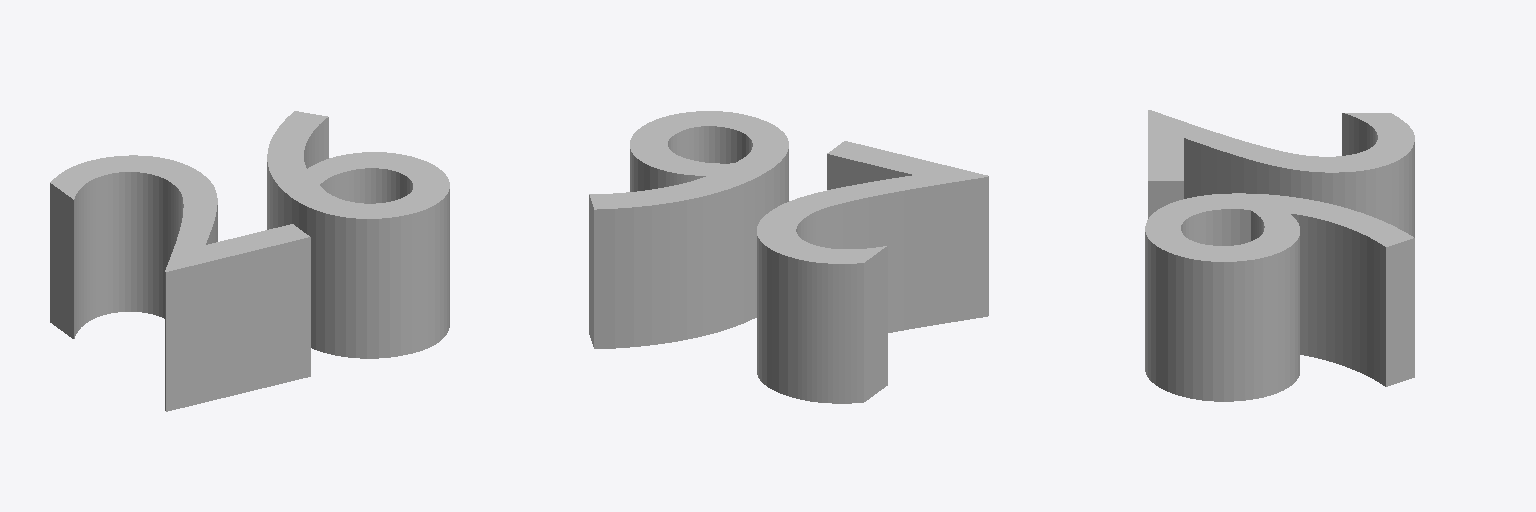
File: date_26.obj
3 renders of one model, left to right at view 1: azimuth 30°, elevation 25°; view 2: azimuth 150°, elevation 25°; view 3: azimuth 270°, elevation 25°, orthographic.
Parts seen in each view (by area): view 1: Text; view 2: Text; view 3: Text.
Boxes of the visible parts, x1,y1,x2,y2 form: Text: [50, 111, 449, 411]; Text: [589, 111, 988, 403]; Text: [1145, 110, 1414, 401].
Bounding box in the file's own units: 0.931 × 0.4 × 0.7.